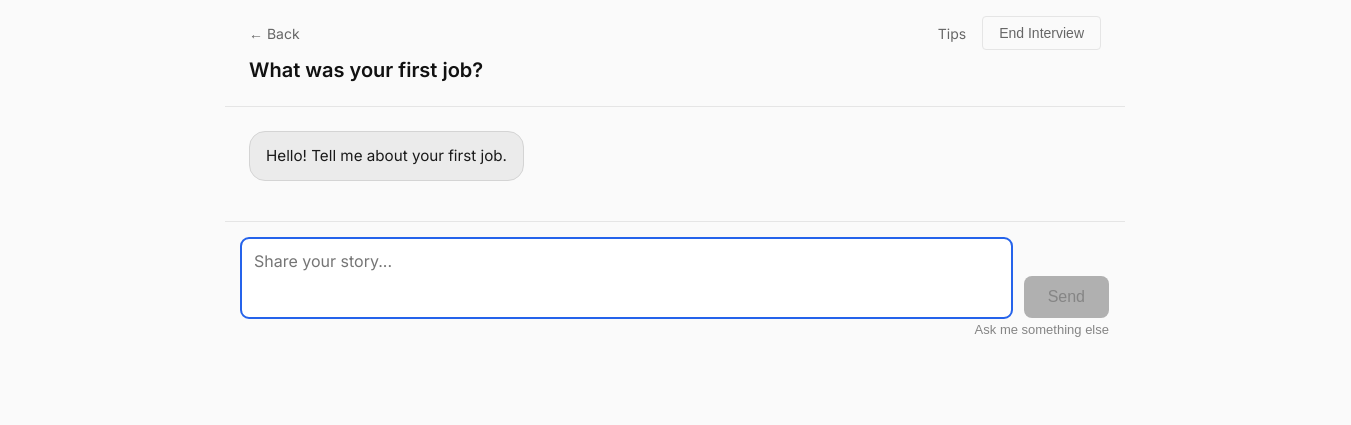
InterviewSession › End Interview button › shows error message when completion fails
Step 1. Click the button "End Interview" → (1042, 33), box [982, 16, 1101, 50]
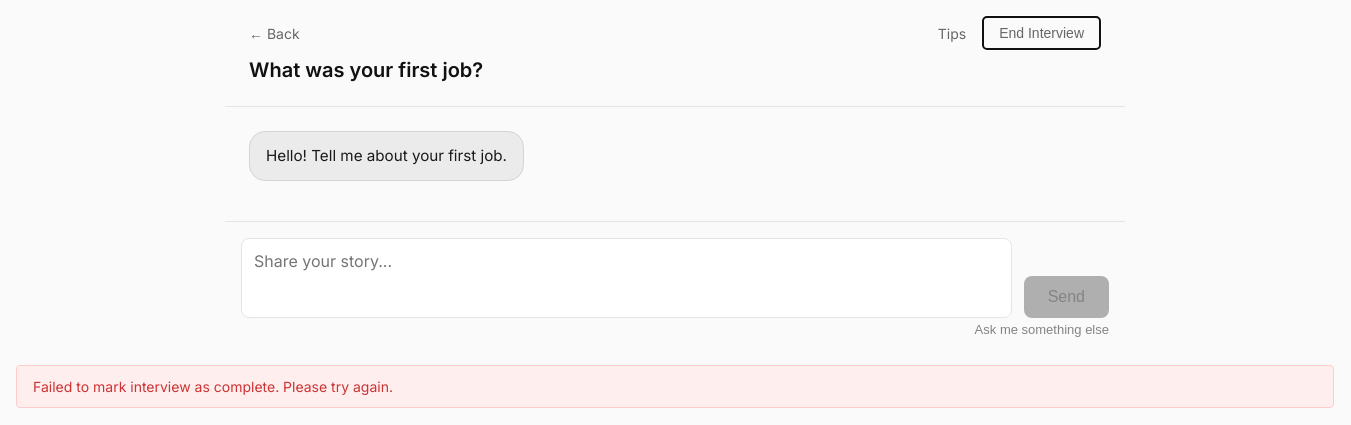
Expected: the text "Failed to mark interview as complete. Please try again." is shown, [16, 365, 1334, 408]
